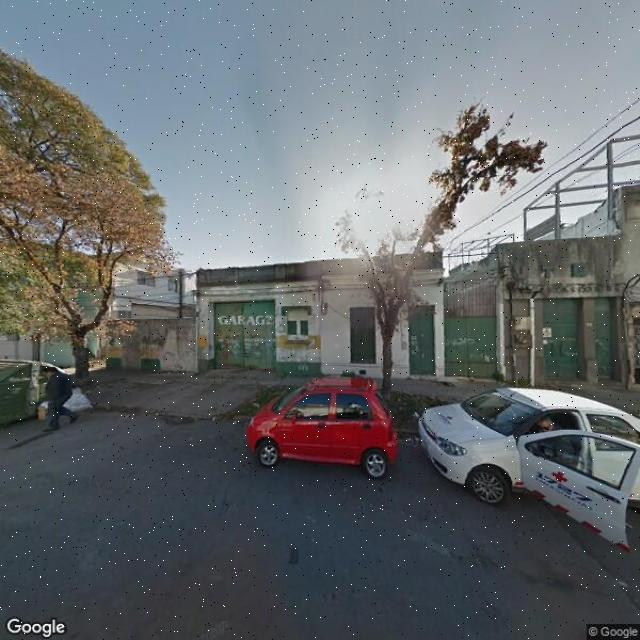garbage container: (2, 354, 92, 432)
